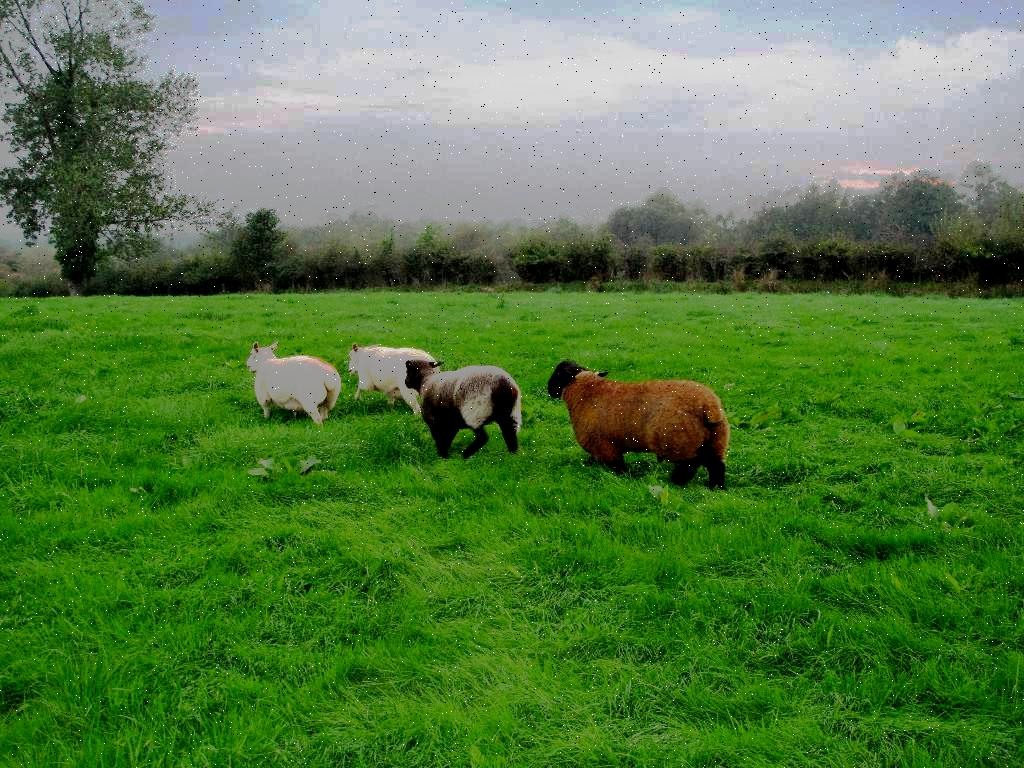Sheep: (533, 364, 737, 496), (404, 360, 518, 462), (250, 344, 342, 420), (348, 342, 446, 413)
